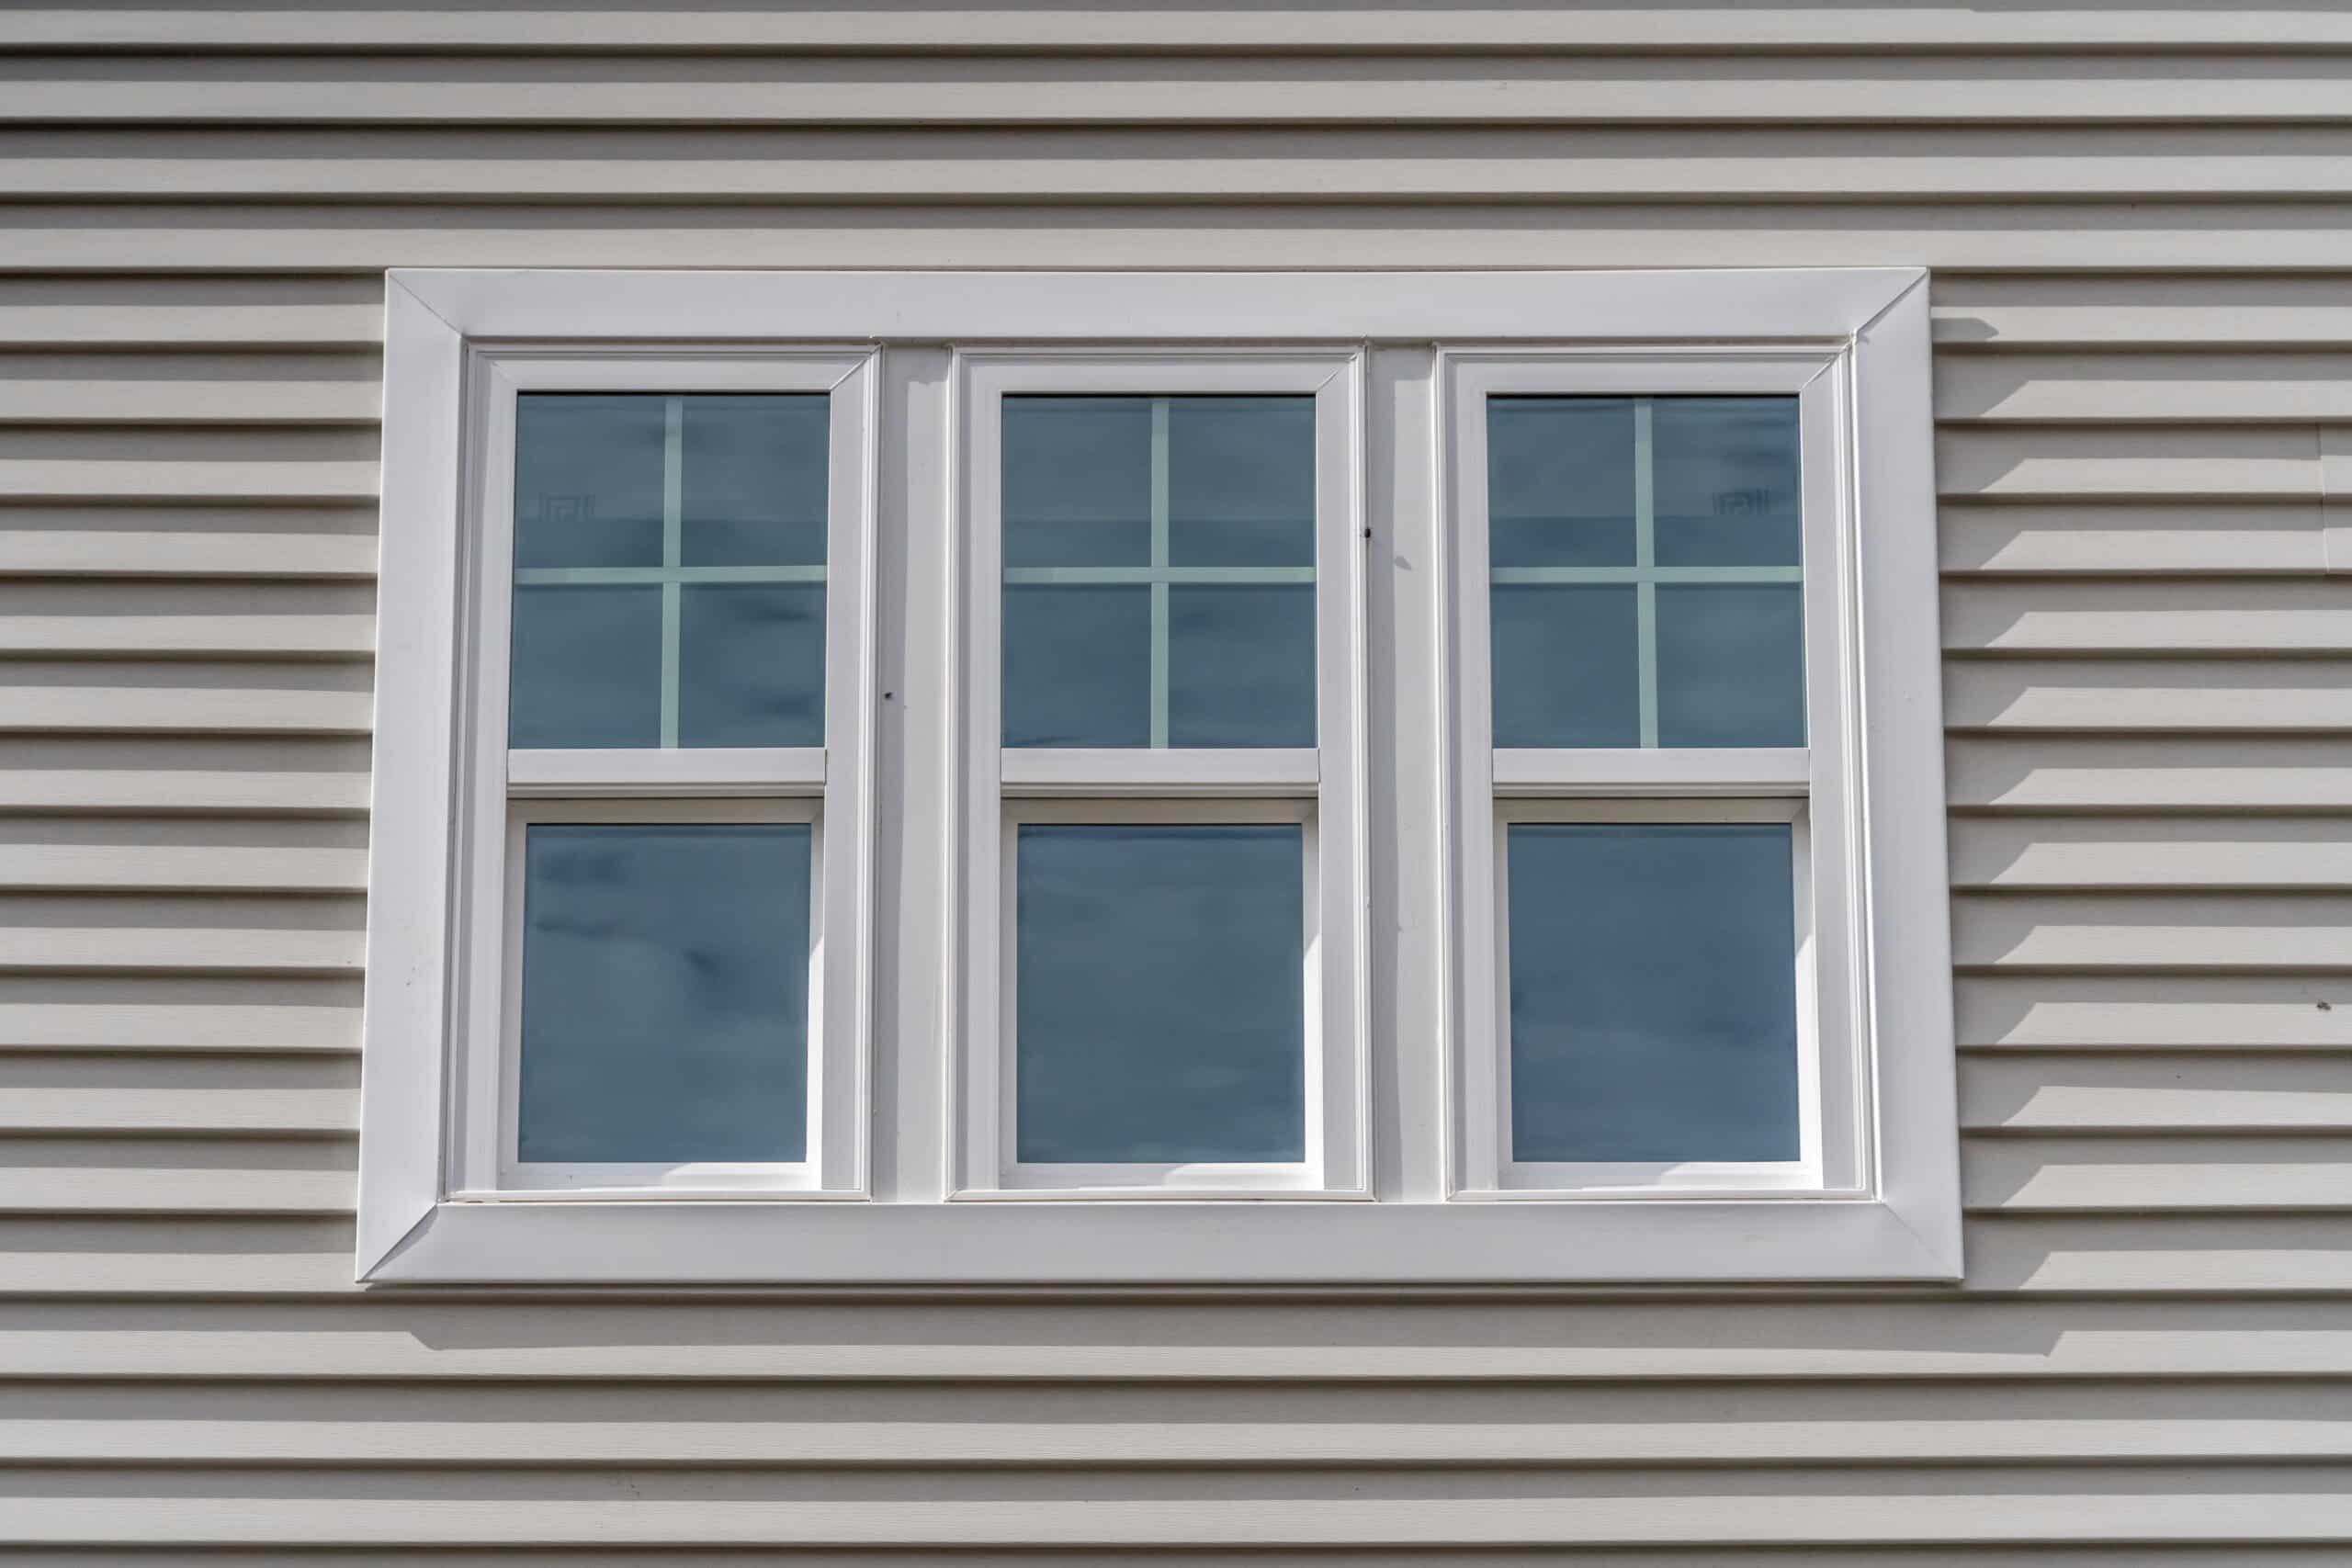Window: (432, 308, 1895, 1216)
